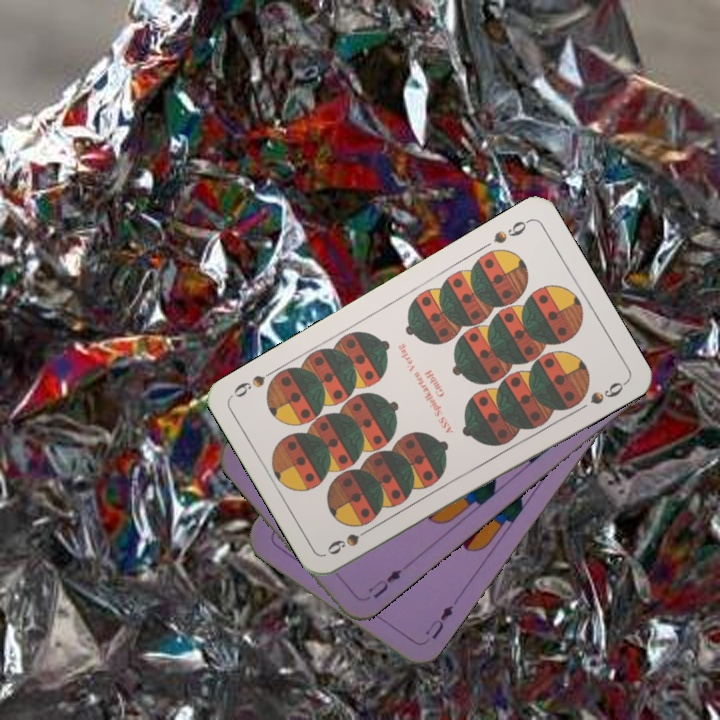EU: (364, 565, 405, 601), (421, 601, 456, 642)
S9: (323, 522, 377, 558), (489, 215, 533, 246)
